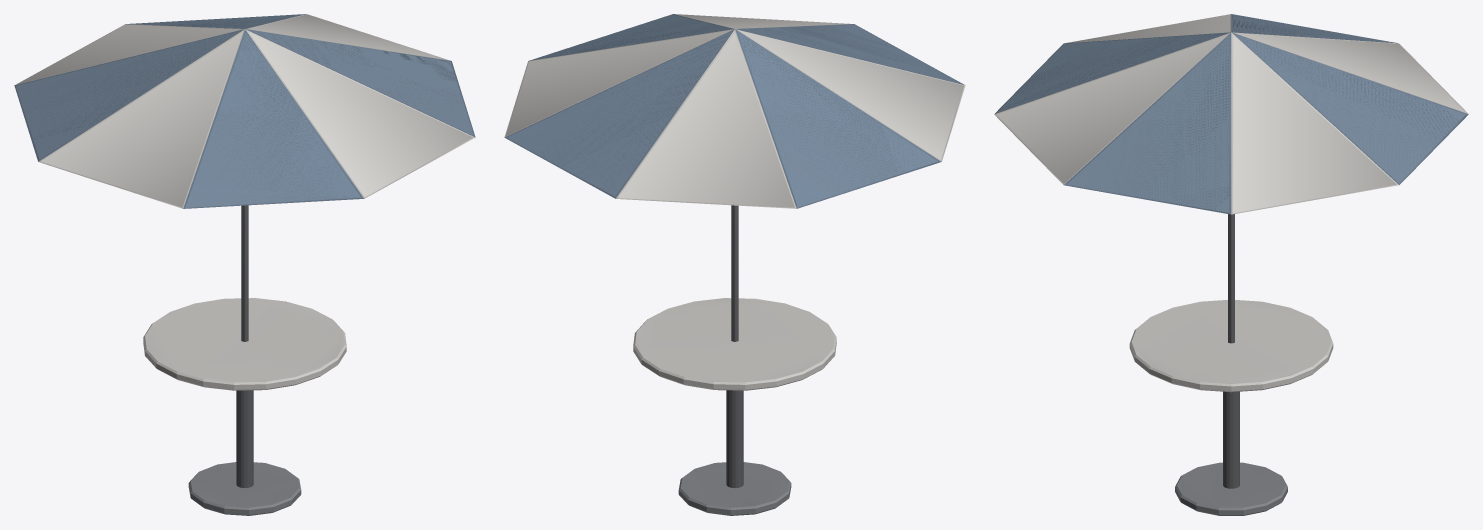
The model's file is furn_parasol_table__navy.glb.
The picture shows the model from 3 angles, left to right: view 1: azimuth 30°, elevation 25°; view 2: azimuth 150°, elevation 25°; view 3: azimuth 270°, elevation 25°; orthographic projection.
Size of the model in its own units: 2.1 by 2.25 by 2.1.
